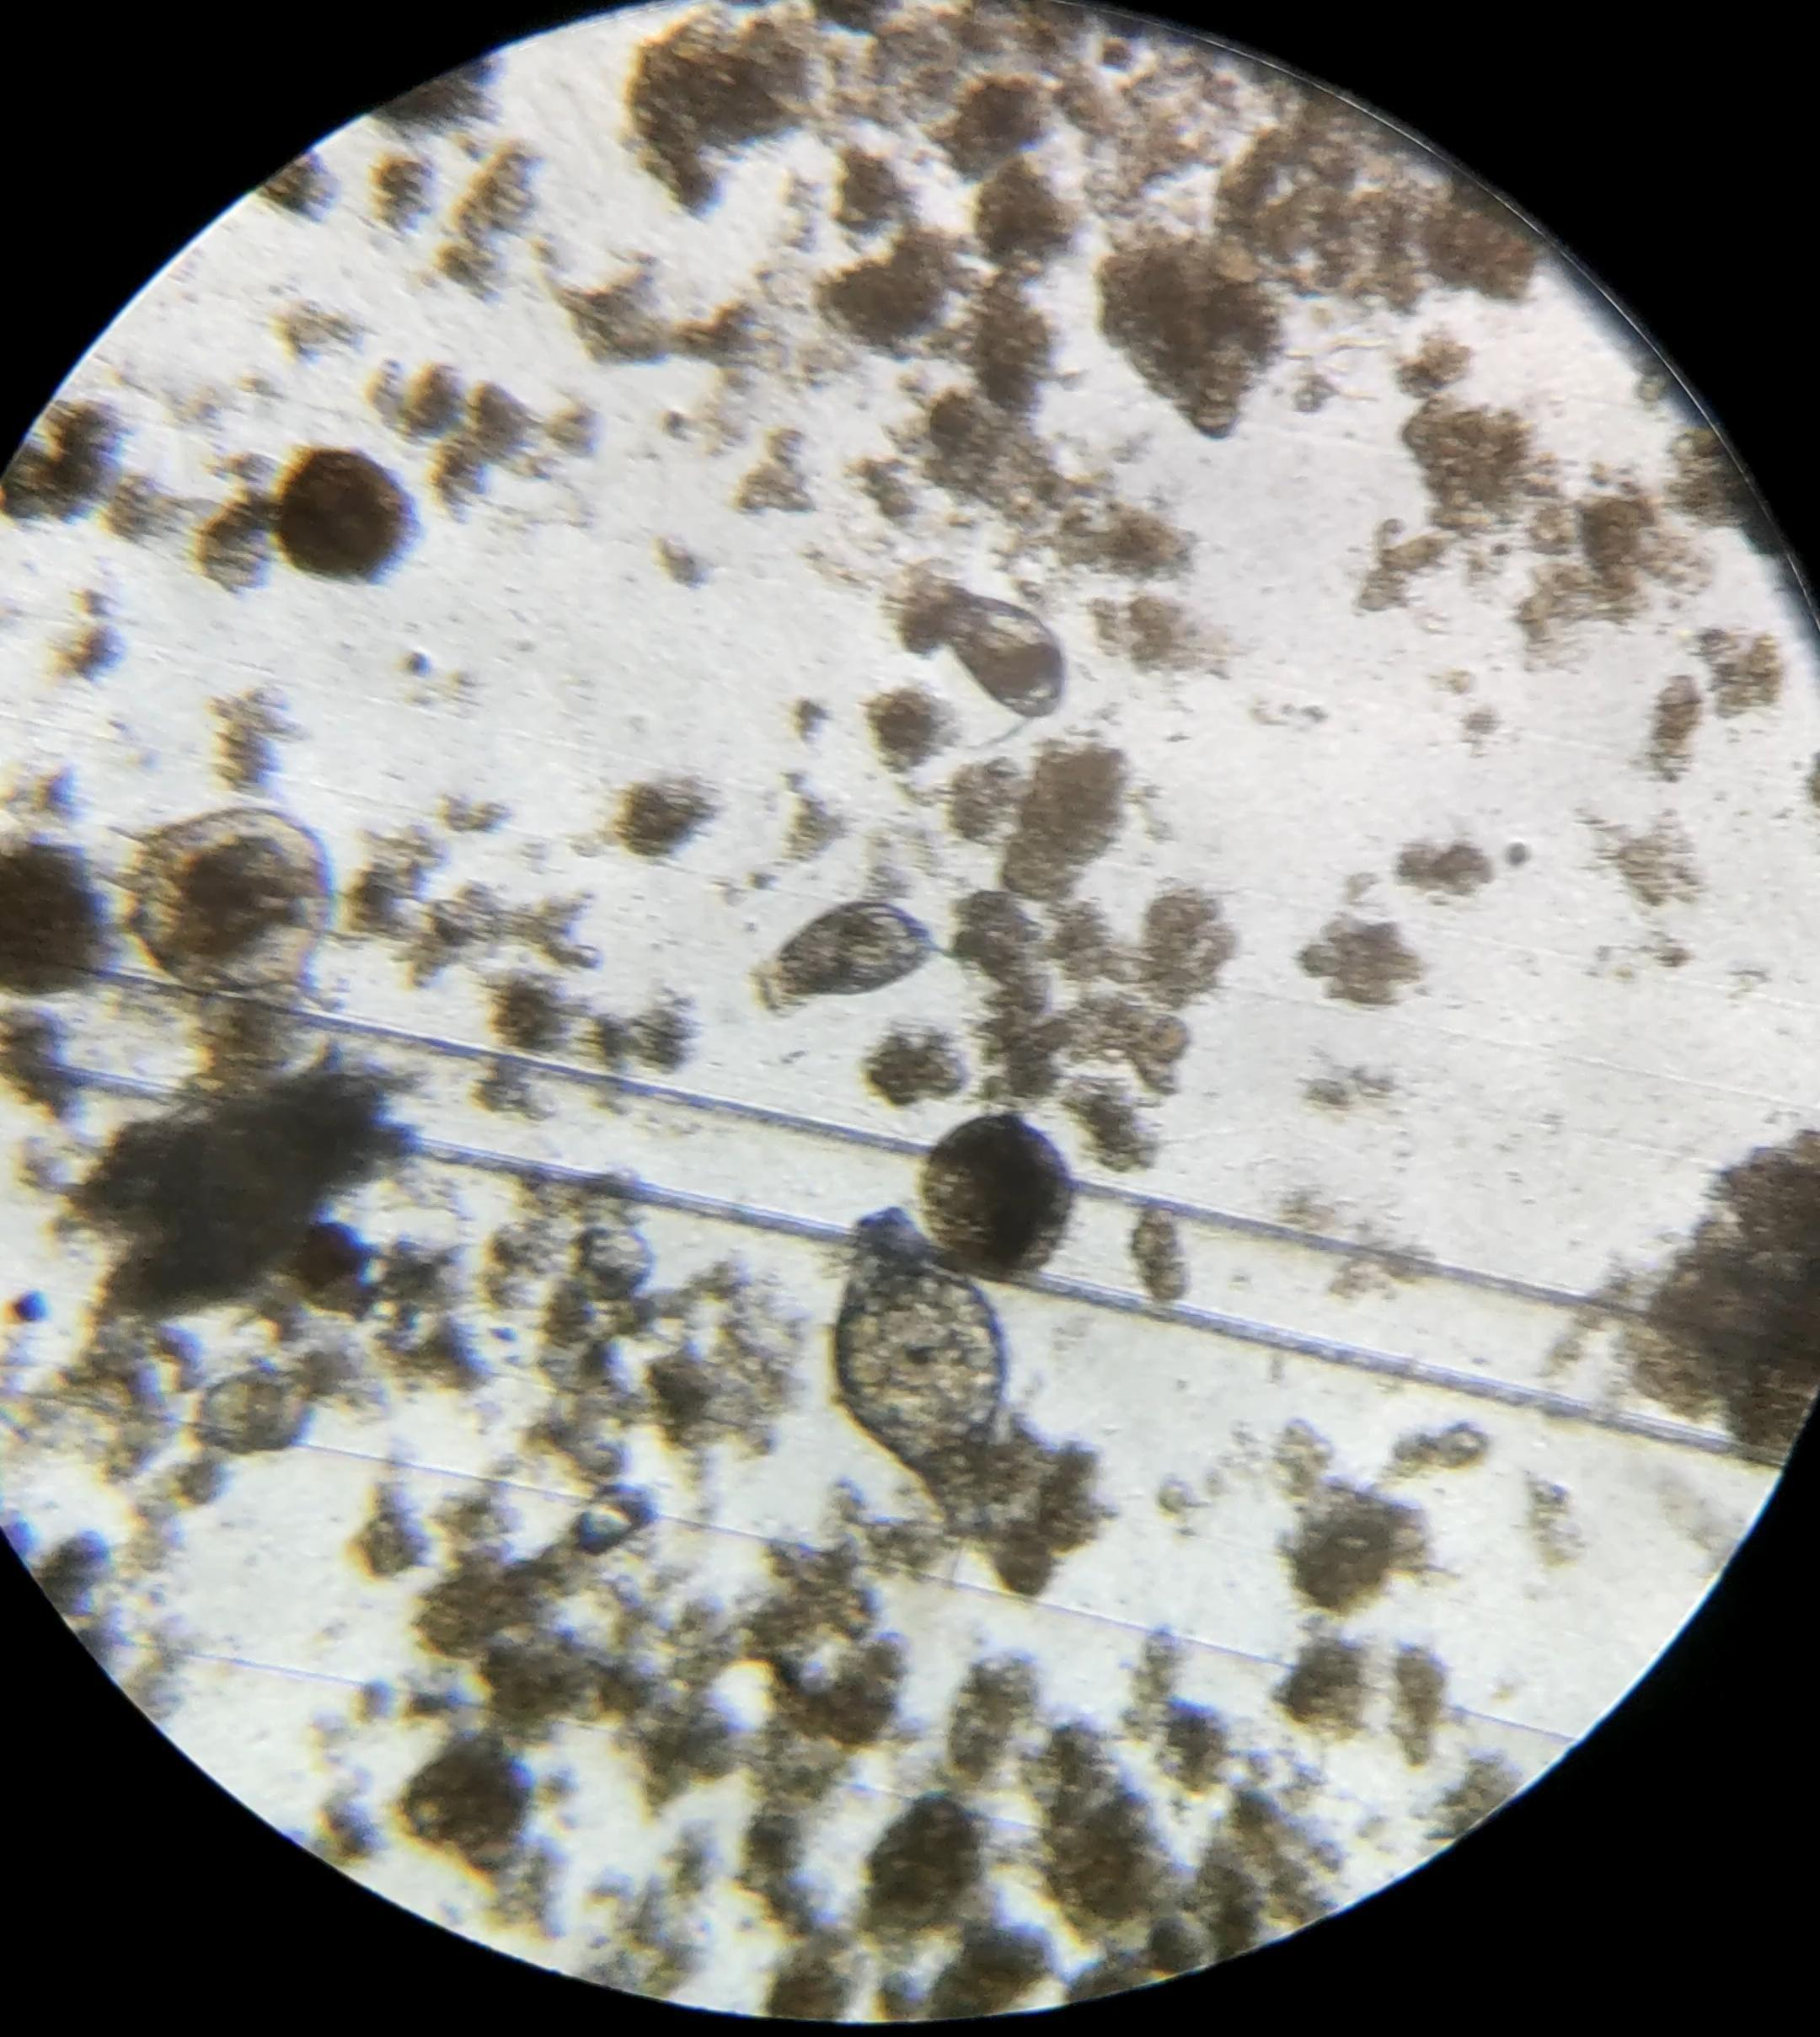Arcella: (137, 808, 330, 991), (926, 1116, 1070, 1274), (283, 450, 404, 576)
Do: (836, 1209, 1005, 1536)
Mo: (931, 592, 1063, 745), (780, 903, 977, 995)
